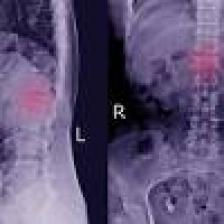compression-crush-fracture: (0, 0, 222, 224)
